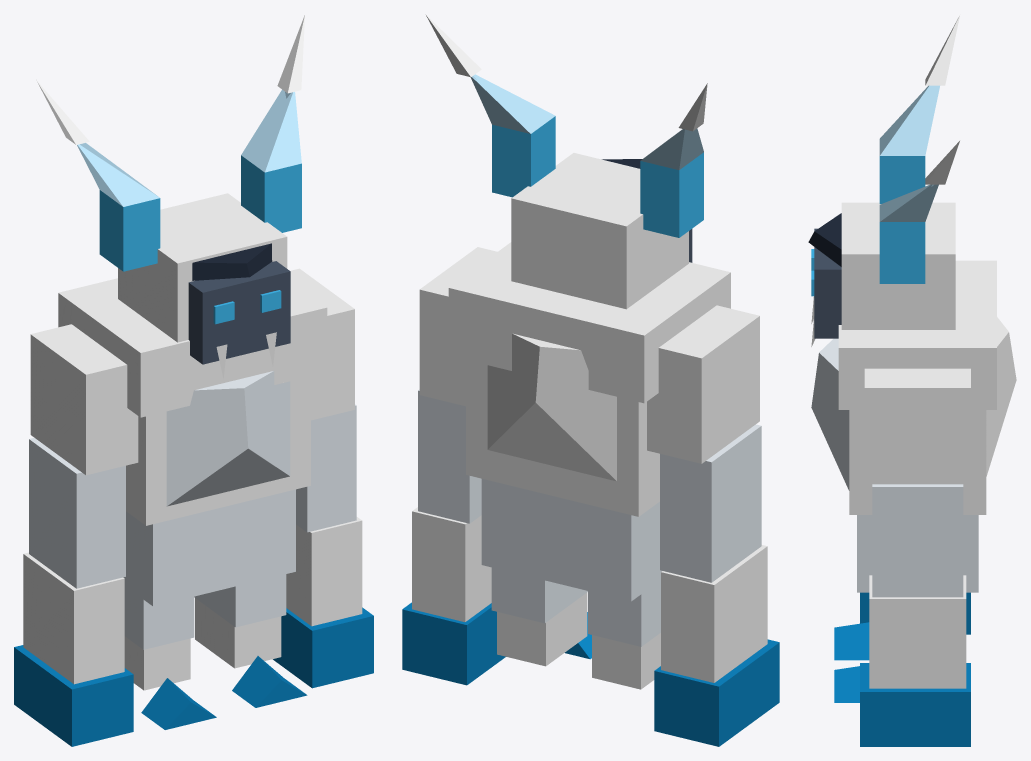
The model's file is yeti.fbx.
The picture shows the model from 3 angles, left to right: view 1: azimuth 30°, elevation 25°; view 2: azimuth 150°, elevation 25°; view 3: azimuth 270°, elevation 25°; orthographic projection. The views are drawn at different scales.
Parts seen in each view (by area): view 1: FurCollar, LowerTorso, ChestBulge, Shoulder_L, Arm_L, Head, Forearm_L, Torso, Claw_L, FaceMask, Forearm_R, Claw_R (+15 smaller); view 2: FurCollar, Head, LowerTorso, BackHump, Shoulder_L, Arm_L, Forearm_L, Torso, Claw_L, Forearm_R, Arm_R, Claw_R (+11 smaller); view 3: Shoulder_R, FurCollar, Head, Arm_R, Forearm_R, Claw_R, Torso, ChestBulge, HornBase_R, HornMid_L, LowerTorso, FaceMask (+9 smaller).
Part boxes in pixels (x1,y1,x2,y2): FurCollar: [58, 278, 327, 417]; LowerTorso: [123, 489, 295, 606]; ChestBulge: [166, 371, 290, 506]; Shoulder_L: [30, 324, 138, 475]; Arm_L: [29, 437, 125, 588]; Head: [118, 193, 287, 342]; Forearm_L: [23, 552, 124, 684]; Torso: [126, 376, 310, 525]; Claw_L: [14, 645, 133, 746]; FaceMask: [188, 261, 290, 364]; Forearm_R: [286, 517, 362, 626]; Claw_R: [273, 607, 373, 688]; FurCollar: [448, 242, 730, 403]; Head: [511, 153, 688, 309]; LowerTorso: [481, 479, 661, 601]; BackHump: [487, 333, 616, 481]; Shoulder_L: [647, 305, 759, 463]; Arm_L: [660, 424, 761, 582]; Forearm_L: [661, 545, 767, 682]; Torso: [466, 360, 659, 516]; Claw_L: [654, 639, 779, 746]; Forearm_R: [412, 507, 491, 621]; Arm_R: [418, 389, 481, 523]; Claw_R: [402, 602, 505, 685]; Shoulder_R: [864, 368, 970, 484]; FurCollar: [838, 260, 996, 409]; Head: [841, 202, 955, 329]; Arm_R: [872, 484, 963, 597]; Forearm_R: [869, 575, 966, 688]; Claw_R: [860, 663, 970, 746]; Torso: [849, 410, 986, 514]; ChestBulge: [811, 338, 849, 490]; HornBase_R: [879, 222, 925, 283]; HornMid_L: [879, 85, 939, 155]; LowerTorso: [857, 515, 978, 592]; FaceMask: [814, 228, 841, 338].
Bounding box in the file's own units: 880 × 1740 × 548.
